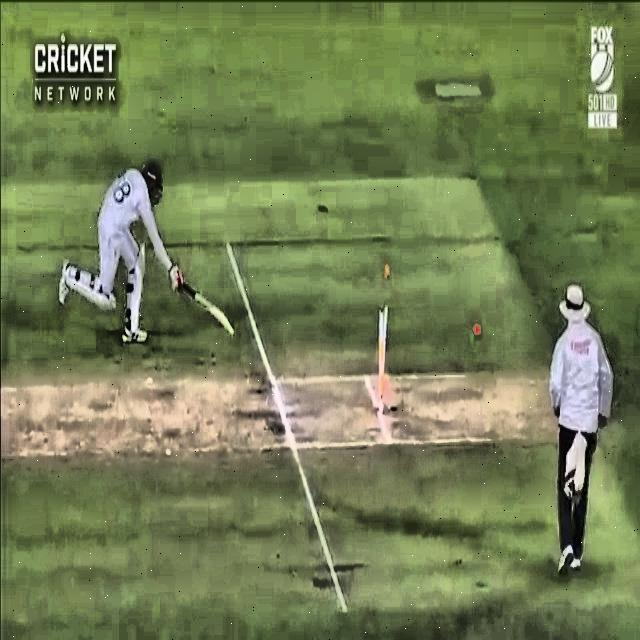Ball: (464, 315, 489, 344)
Bat: (161, 264, 238, 341)
Dis_Wicket: (370, 260, 399, 425)
Pitch_Line: (225, 242, 346, 614)
